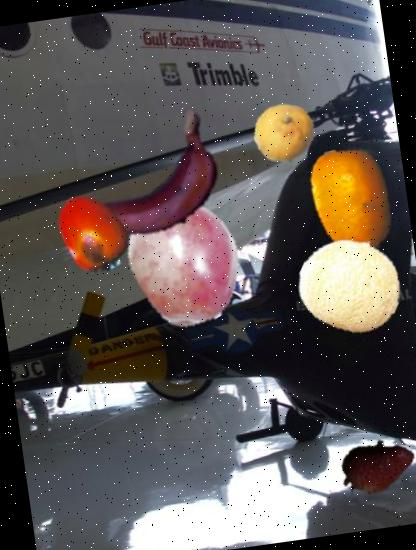Banana: (78, 102, 246, 270)
Cantaloupe: (293, 226, 410, 342)
Cherry: (114, 189, 260, 334)
Kaki: (46, 186, 140, 279)
Kumquats: (293, 140, 412, 259)
Lemon: (250, 99, 320, 169)
Strawberry: (336, 431, 416, 511)
